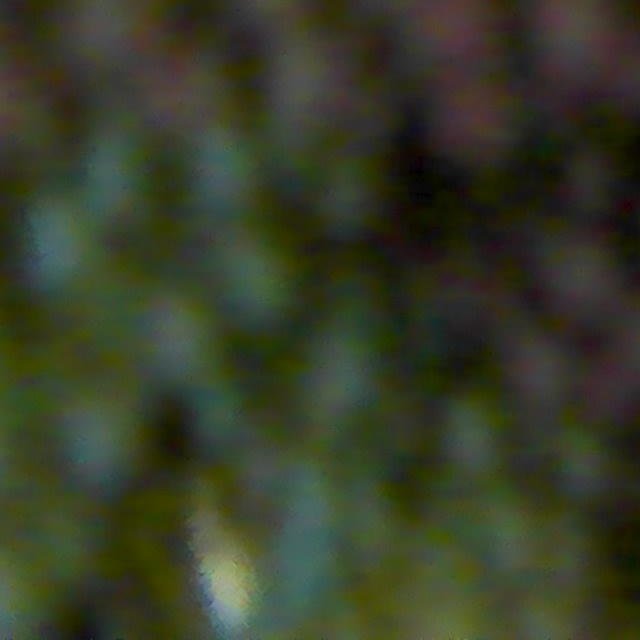SeaGrape: (441, 84, 561, 198), (537, 0, 640, 121), (262, 36, 362, 155), (19, 487, 115, 606), (25, 194, 125, 306), (403, 3, 508, 98), (292, 328, 389, 429), (533, 232, 622, 339), (53, 390, 147, 486), (155, 64, 255, 150), (100, 116, 181, 220), (134, 295, 222, 389), (490, 319, 577, 408), (75, 0, 165, 79), (207, 224, 289, 309), (196, 132, 274, 221), (434, 392, 512, 479), (310, 154, 388, 237), (0, 554, 52, 639)
